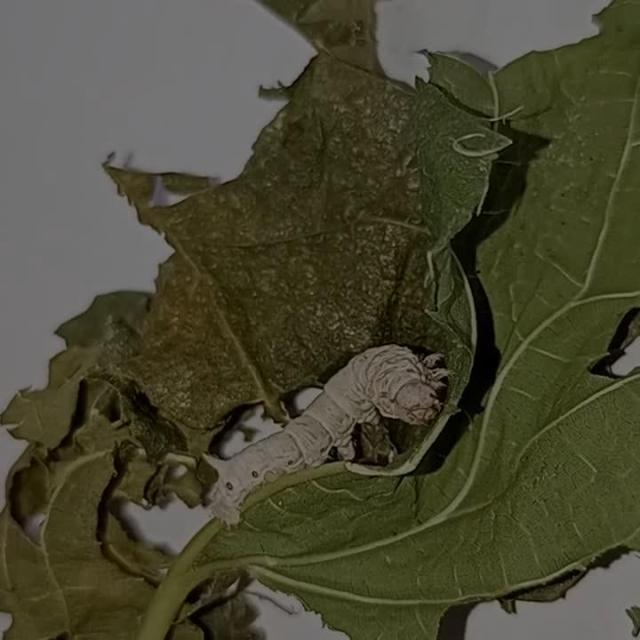Healthy: (181, 311, 494, 552)
